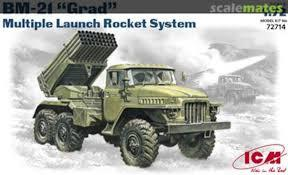MIL_SAM_TEL: (36, 29, 225, 160)
